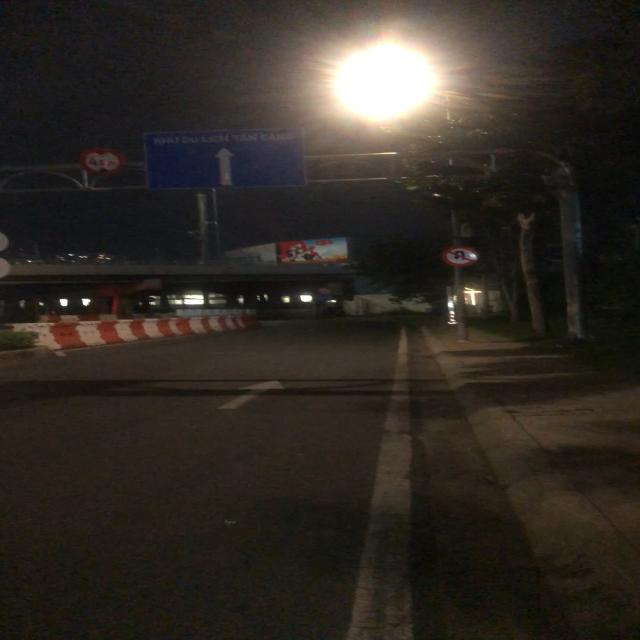Bien bao cam quay dau xe: (442, 244, 481, 266)
Bien bao han che chieu cao: (77, 146, 131, 176)
